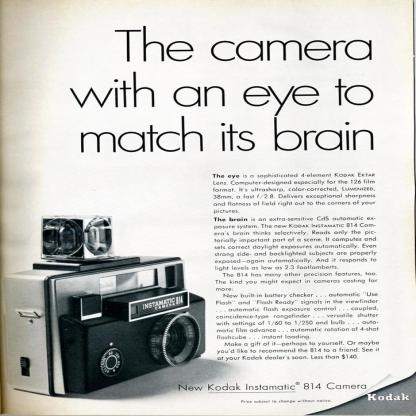Camera: (7, 213, 211, 397)
